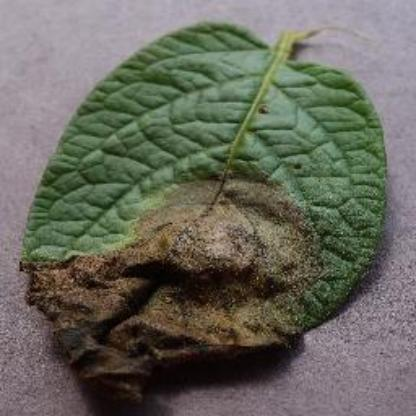Late-Blight: (16, 16, 394, 402)
